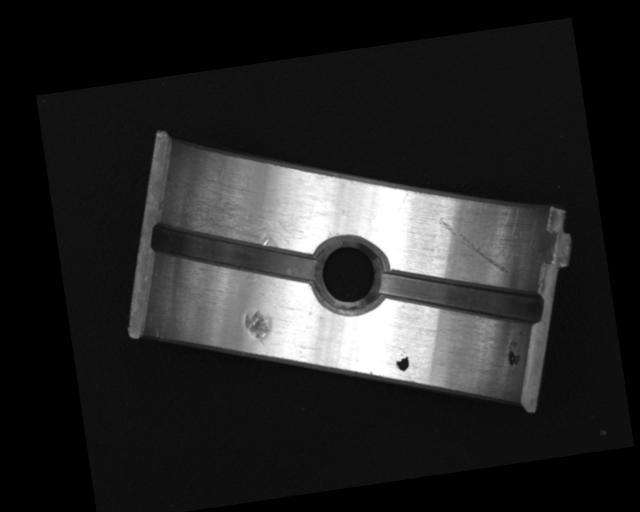blot: (504, 339, 523, 368), (394, 349, 411, 372)
bruise: (242, 308, 277, 349)
gap: (149, 201, 319, 304), (377, 249, 546, 344)
hole: (309, 233, 389, 319)
nick: (438, 207, 507, 281)
scratch: (164, 160, 305, 268)
